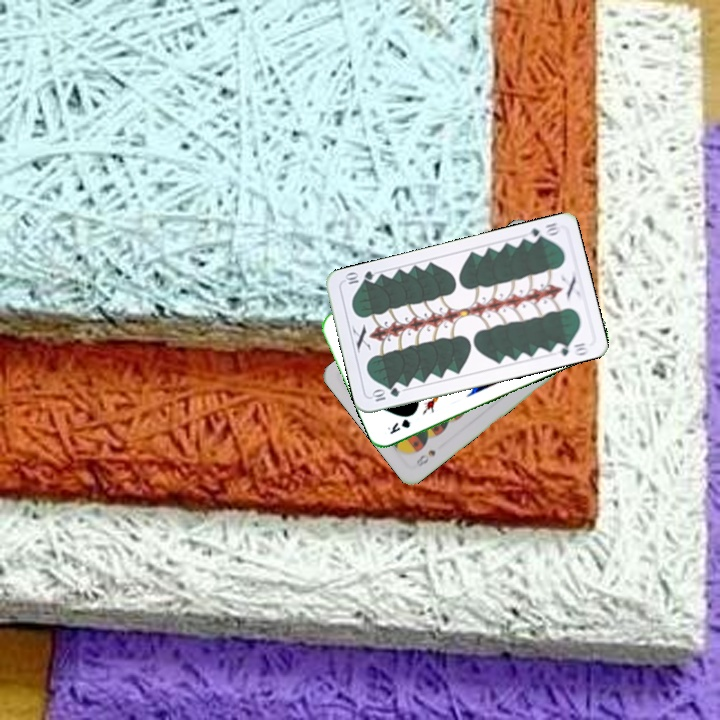G10: (521, 218, 562, 245), (367, 383, 402, 404)
GK: (384, 415, 413, 437)
S8: (412, 446, 438, 470)
